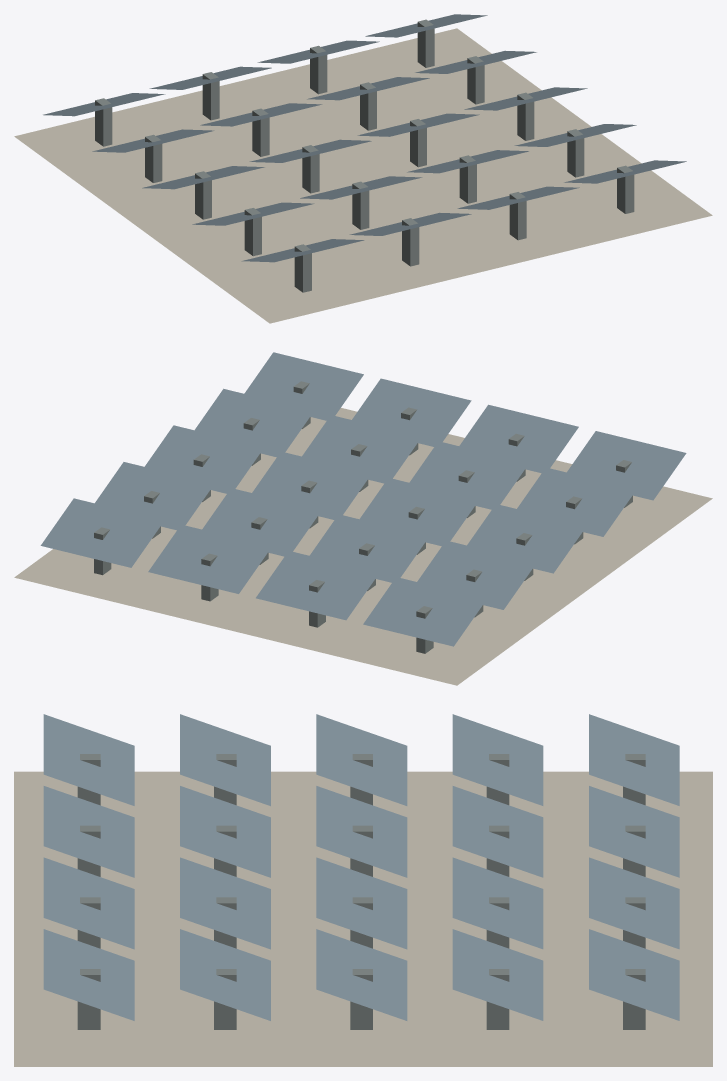
3 renders of one model, top to bottom at view 1: azimuth 30°, elevation 25°; view 2: azimuth 150°, elevation 25°; view 3: azimuth 270°, elevation 25°, orthographic. The views are drawn at different scales.
Visible parts, largest first — view 1: Near; view 2: Near; view 3: Near.
Part boxes in pixels (x1,y1,x2,y2): Near: (14,14,712,323); Near: (14,352,712,685); Near: (14,714,712,1066).
Bounding box in the file's own units: 4 × 0.43 × 4.
